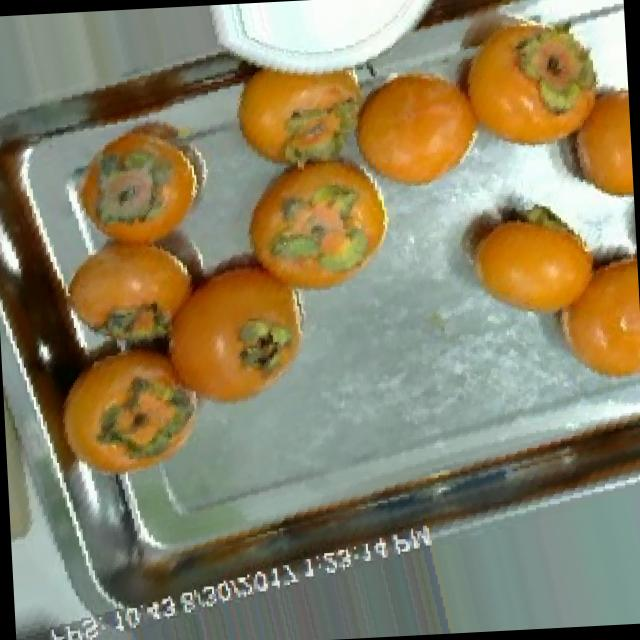Fruit: (431, 0, 624, 174), (40, 318, 217, 501), (228, 135, 410, 312), (44, 200, 218, 373), (336, 48, 492, 210), (448, 184, 612, 338), (57, 100, 220, 254)
